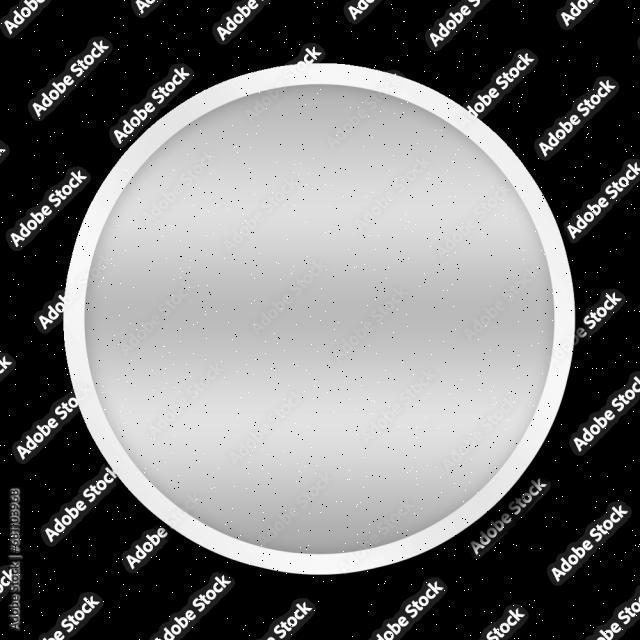Circle: (61, 61, 581, 587)
